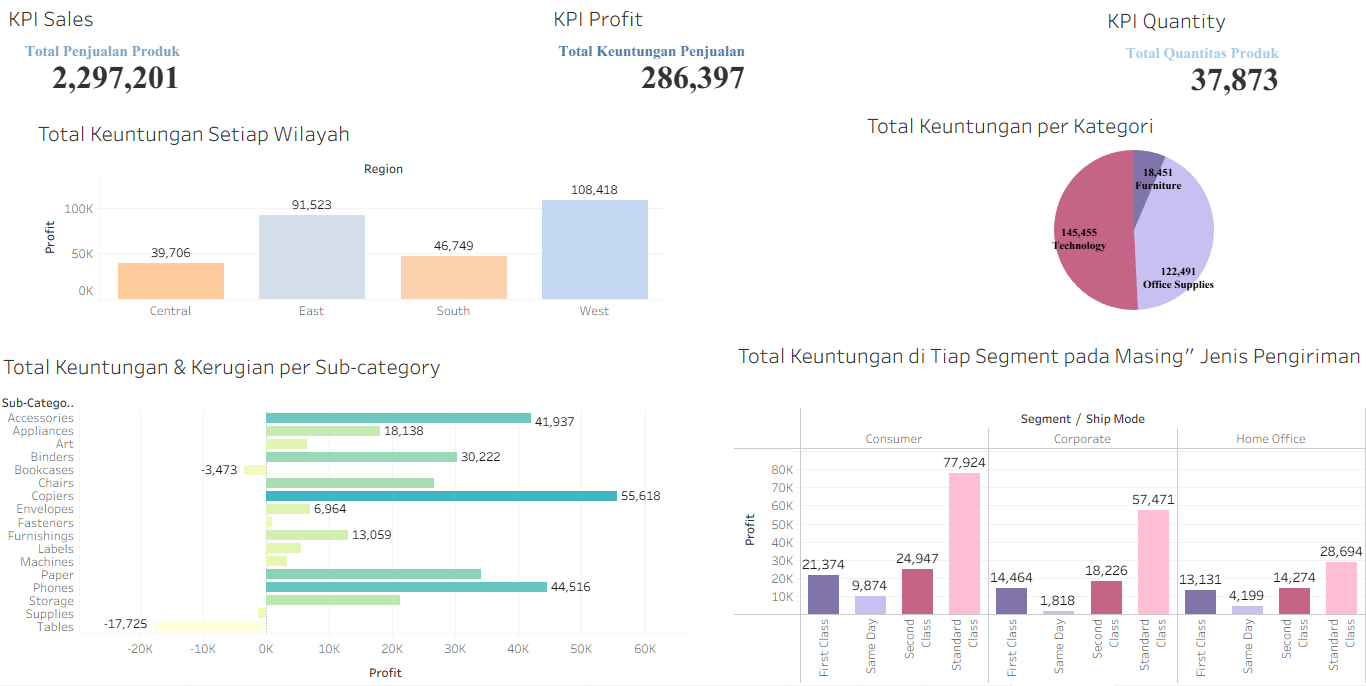

The dashboard page shown, as its layout file describes it:
{"tool":"tableau","page":{"name":"Dashboard 1","canvas":[1155,1000],"ordinal":0},"visuals":[{"type":"worksheet","title":"KPI Sales","mark":"Automatic","box":[3,0,283,127]},{"type":"worksheet","title":"KPI Profit","mark":"Automatic","box":[326.4,2.2,397.3,235.4]},{"type":"legend","title":"Total Keuntungan per Kategori","param":"[federated.0fjwxbr1sdjuak10d6l3g1m5p3al].[none:Category:nk]","box":[987,8,160,86]},{"type":"worksheet","title":"KPI Quantity","mark":"Automatic","box":[755,18.3,384,176.1]},{"type":"legend","title":"Total Keuntungan per Kategori","param":"[federated.0fjwxbr1sdjuak10d6l3g1m5p3al].[sum:Profit:qk]","box":[987,94,160,46]},{"type":"worksheet","title":"Total Keuntungan Setiap Wilayah","mark":"Automatic","rows":["Profit"],"cols":["Region"],"box":[7,113,328,323]},{"type":"worksheet","title":"Total Keuntungan di Tiap Segment pada Masing\" Jenis Pengiriman","mark":"Automatic","rows":["Profit"],"cols":["Segment","Ship Mode"],"box":[545,120,444,562]},{"type":"worksheet","title":"Total Keuntungan per Kategori","mark":"Pie","box":[367,123,432,333]},{"type":"legend","title":"Total Keuntungan & Kerugian per Sub-category","param":"[federated.0fjwxbr1sdjuak10d6l3g1m5p3al].[sum:Profit:qk]","box":[987,140,160,65]},{"type":"legend","title":"Total Keuntungan di Tiap Segment pada Masing\" Jenis Pengiriman","param":"[federated.0fjwxbr1sdjuak10d6l3g1m5p3al].[none:Ship Mode:nk]","box":[987,205,160,106]},{"type":"worksheet","title":"Total Keuntungan & Kerugian per Sub-category","mark":"Automatic","rows":["Sub-Category"],"cols":["Profit"],"box":[3,448,522,461]}]}

Visuals, with their boxes on the page's 1155x1000 design canvas (x1, y1, x2, y2). These are canvas units, not pixel positions in the 1366x686 screenshot, which may show the page scaled, cropped or inside an application window:
"KPI Sales" worksheet: Rect(3, 0, 286, 127)
"KPI Profit" worksheet: Rect(326, 2, 724, 238)
"Total Keuntungan per Kategori" legend: Rect(987, 8, 1147, 94)
"KPI Quantity" worksheet: Rect(755, 18, 1139, 194)
"Total Keuntungan per Kategori" legend: Rect(987, 94, 1147, 140)
"Total Keuntungan Setiap Wilayah" worksheet: Rect(7, 113, 335, 436)
"Total Keuntungan di Tiap Segment pada Masing" Jenis Pengiriman" worksheet: Rect(545, 120, 989, 682)
"Total Keuntungan per Kategori" worksheet (Pie marks): Rect(367, 123, 799, 456)
"Total Keuntungan & Kerugian per Sub-category" legend: Rect(987, 140, 1147, 205)
"Total Keuntungan di Tiap Segment pada Masing" Jenis Pengiriman" legend: Rect(987, 205, 1147, 311)
"Total Keuntungan & Kerugian per Sub-category" worksheet: Rect(3, 448, 525, 909)
